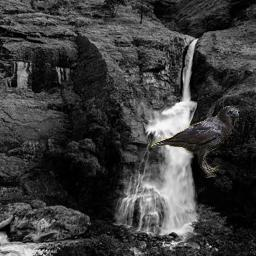Crow: (148, 106, 239, 178)
